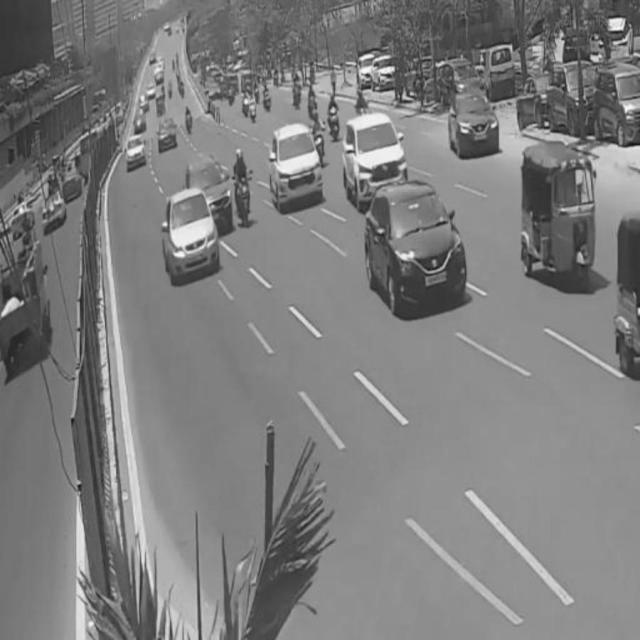vehicle: (364, 179, 467, 316), (517, 141, 599, 283), (340, 115, 410, 203), (164, 192, 219, 276), (613, 219, 640, 375), (272, 128, 322, 208), (185, 161, 236, 237), (450, 89, 501, 157), (229, 149, 255, 229)
